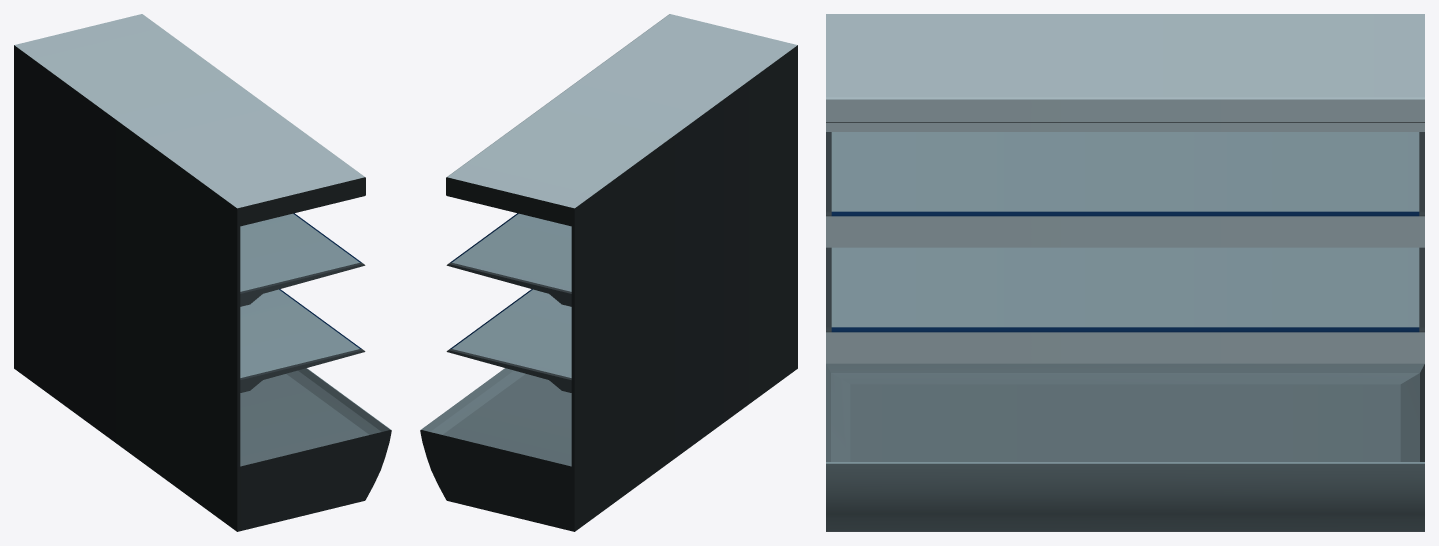
File: Freezer_Open_2row_col.glb
3 views of the same model, side by side, from view 1: azimuth 30°, elevation 25°; view 2: azimuth 150°, elevation 25°; view 3: azimuth 270°, elevation 25° (orthographic). The views are drawn at different scales.
Visible parts, largest first — view 1: Freezer_Open_2row_col; view 2: Freezer_Open_2row_col; view 3: Freezer_Open_2row_col.
Boxes of the visible parts, <box> form: Freezer_Open_2row_col: <box>14,14,391,531</box>; Freezer_Open_2row_col: <box>420,14,797,531</box>; Freezer_Open_2row_col: <box>826,14,1424,531</box>.
Size of the model in its own units: 1.2 by 2.4 by 3.
Materials: 2 (2 with a texture image).
